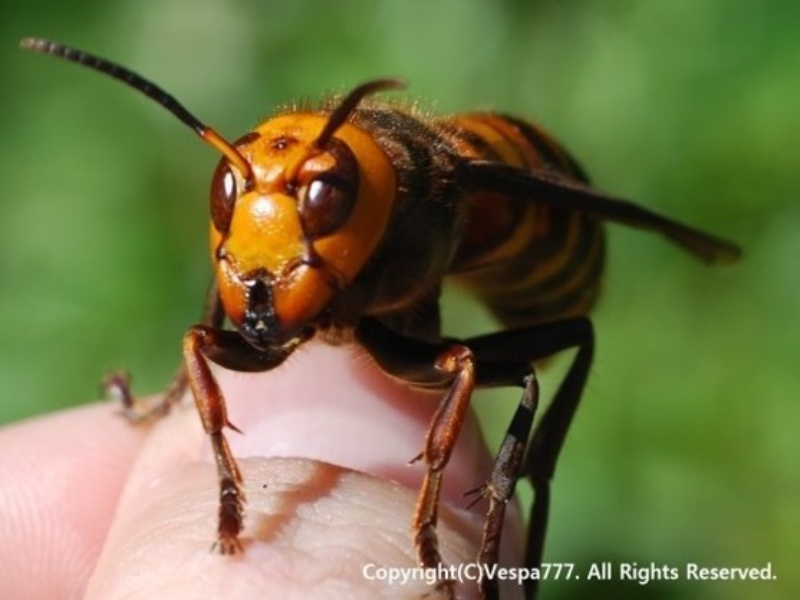asian_giant_hornet: (24, 32, 616, 555)
